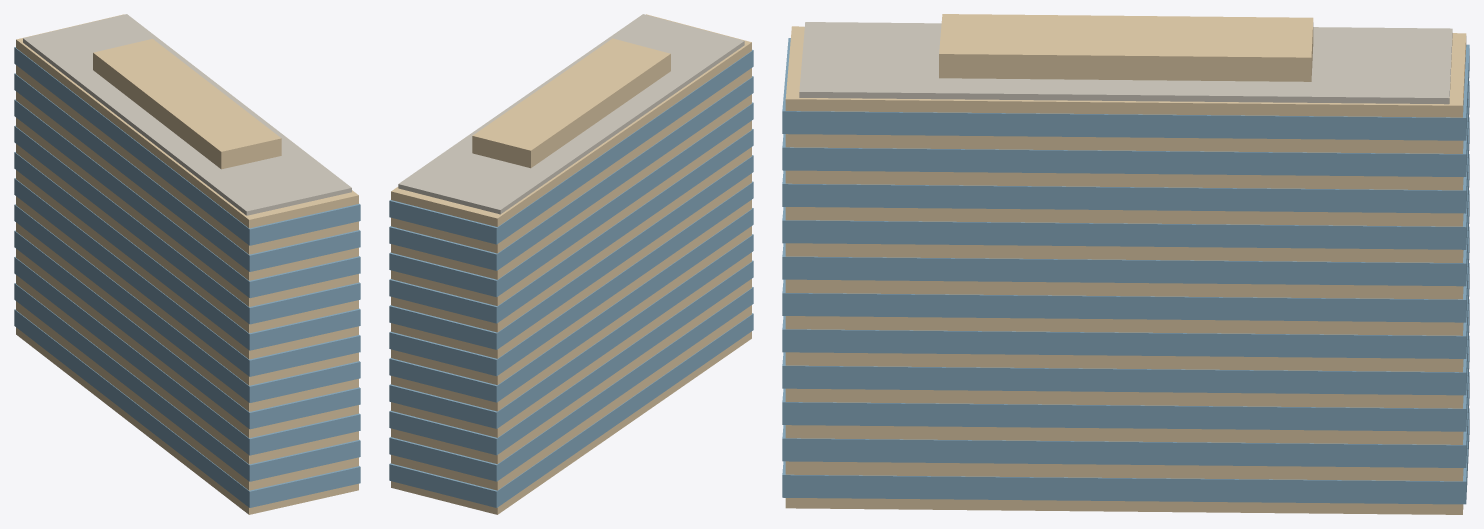
Rendered from sule_shangri_la.glb.
3 views of the same model, side by side, from view 1: azimuth 30°, elevation 25°; view 2: azimuth 150°, elevation 25°; view 3: azimuth 270°, elevation 25° (orthographic). The views are drawn at different scales.
Visible parts, largest first — view 1: part; view 2: part; view 3: part.
Part boxes in pixels (bbox=[...]): part: bbox=[14, 14, 360, 514]; part: bbox=[389, 14, 753, 514]; part: bbox=[782, 14, 1469, 514].
Bounding box in the file's own units: 34.04 × 87.01 × 123.
